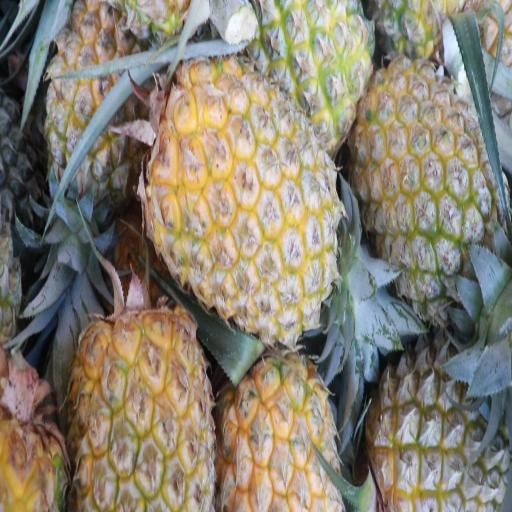------------------------------: (46, 0, 156, 216), (378, 342, 510, 512)
Pineapple - v8 v1: (156, 55, 344, 333), (360, 56, 497, 280), (73, 308, 214, 512), (256, 0, 372, 138)
